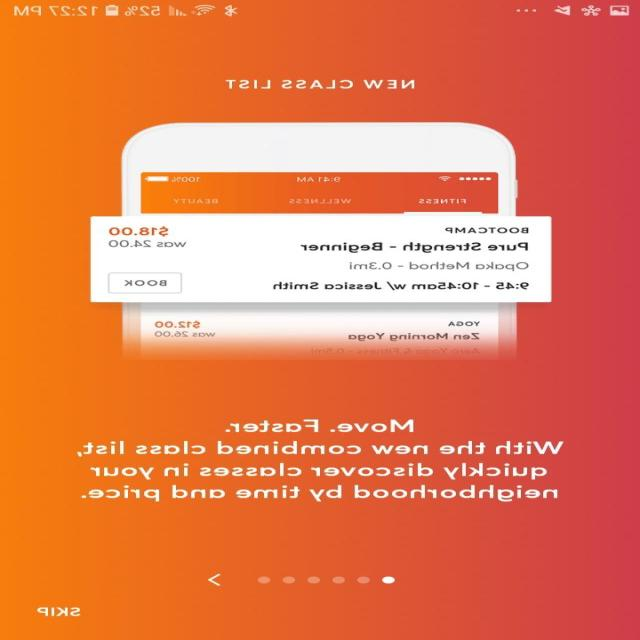Icon: (208, 574, 222, 586)
Image: (91, 122, 553, 360)
Text: (77, 419, 566, 502), (225, 79, 416, 89), (37, 607, 82, 616)
